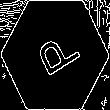P_SW: (27, 26, 83, 84)
